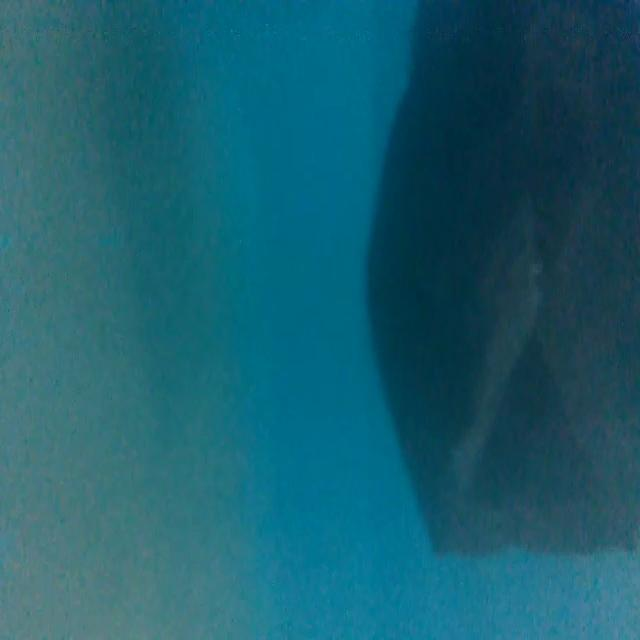plastic bags: (374, 0, 640, 563)
